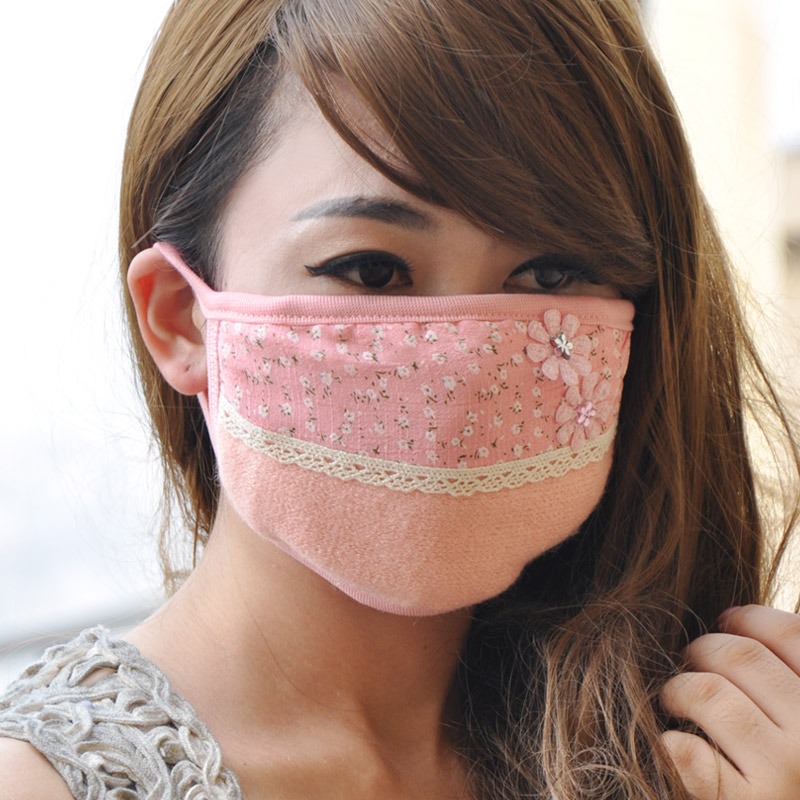face_mask: (221, 67, 642, 589)
